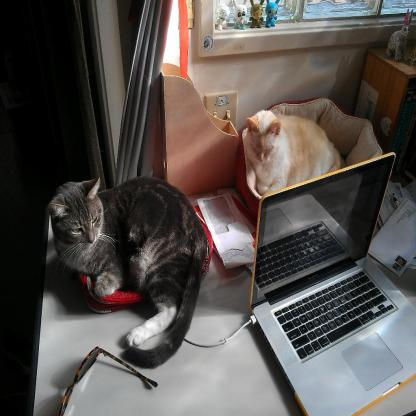board: (235, 154, 416, 410)
